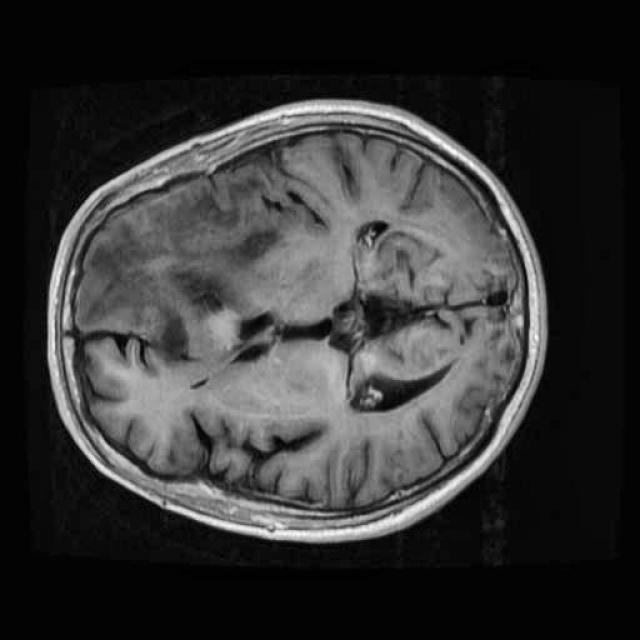Non-Tumor: (71, 169, 295, 365)
